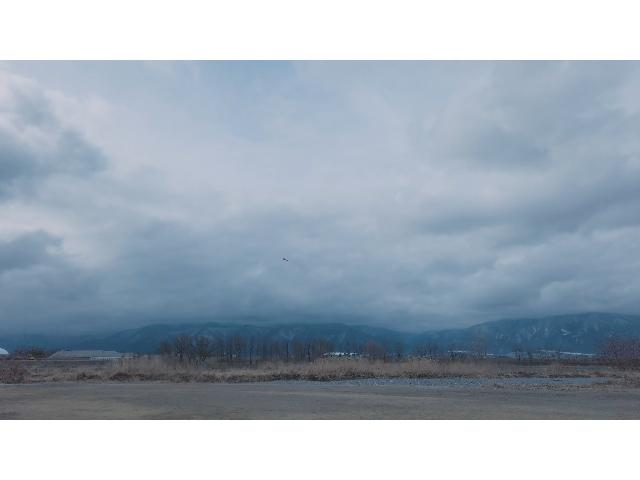Anti-Drone: (279, 256, 291, 265)
